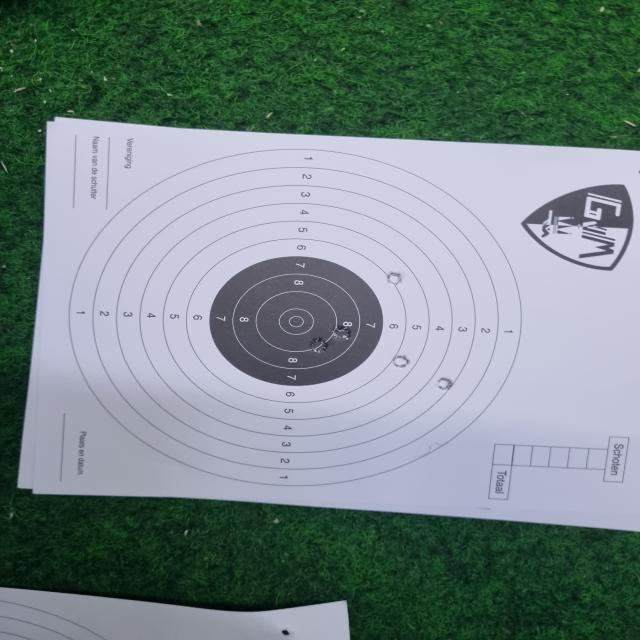3: (436, 378, 454, 390)
5: (392, 356, 410, 368)
6: (386, 272, 402, 285)
9: (309, 337, 328, 353), (332, 327, 351, 341)
Target: (69, 149, 523, 486)
black_contour: (209, 256, 383, 386)
